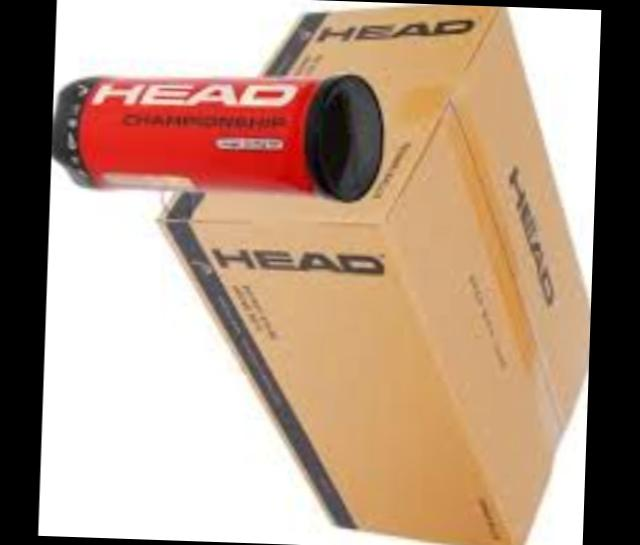cardboard paper: (171, 2, 592, 545)
